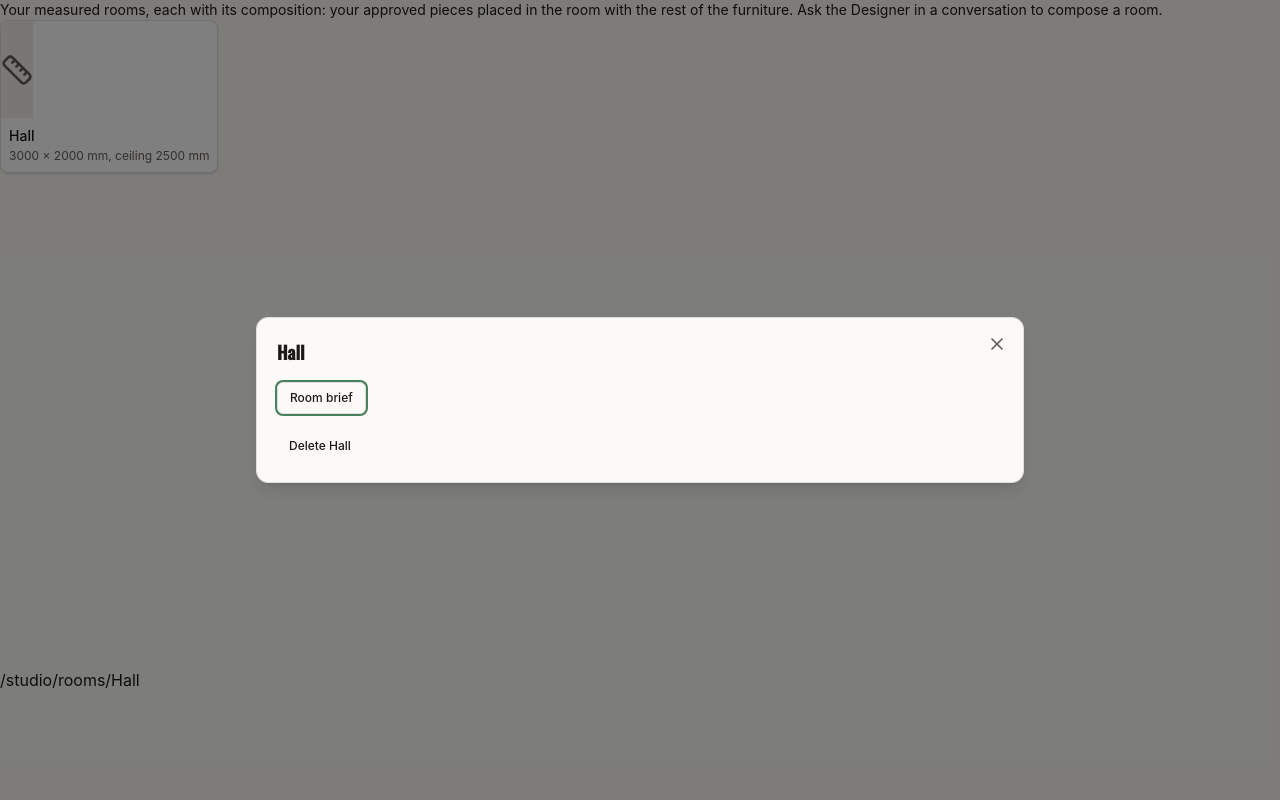
it: a confirmed delete closes the dialog, removes the tile and refreshes the lists (Delete confirmed)
This screenshot has width=1280, height=800.
Click the button "Delete Hall": [320, 446] box [277, 430, 363, 462]
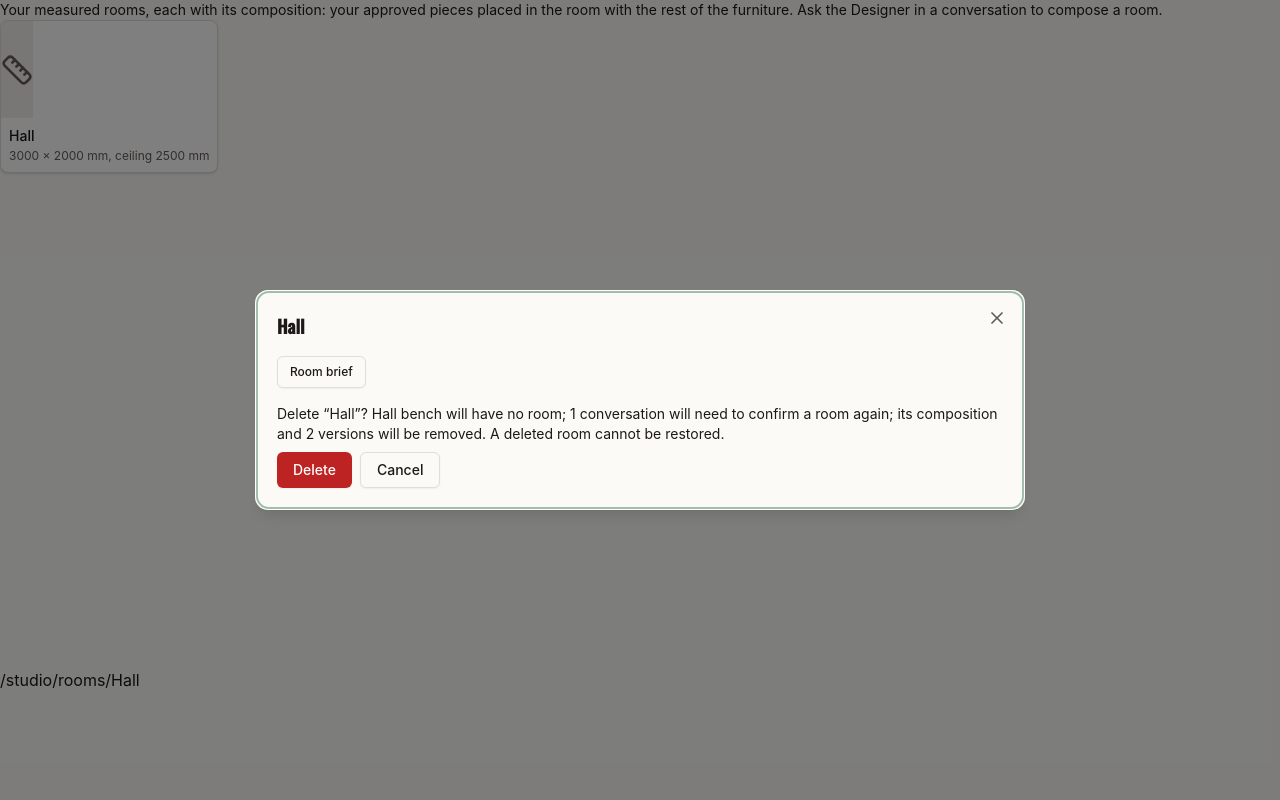
Click the button "Delete": [314, 470] box [277, 452, 352, 488]
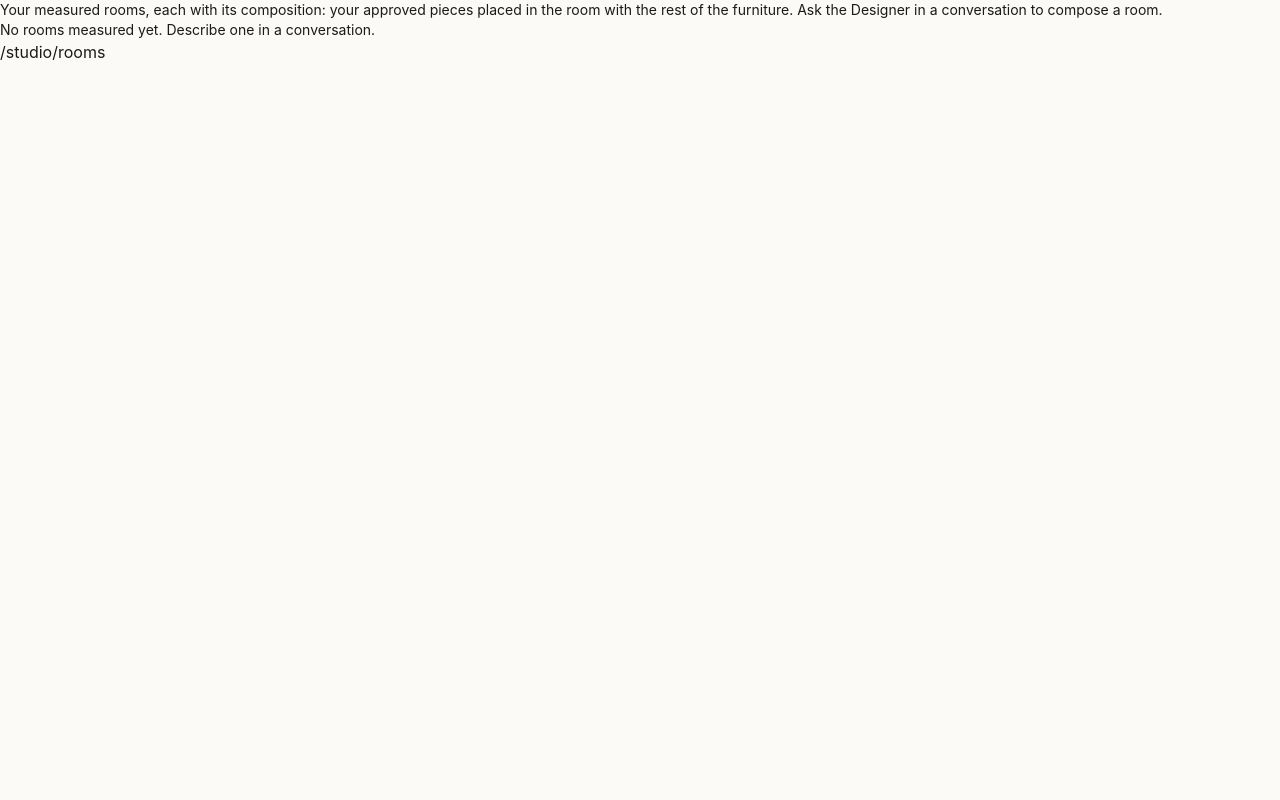
Check: the dialog is gone
Check: the button "Hall" is gone
Check: the text named "address" reads "/studio/rooms", box [0, 42, 105, 62]
